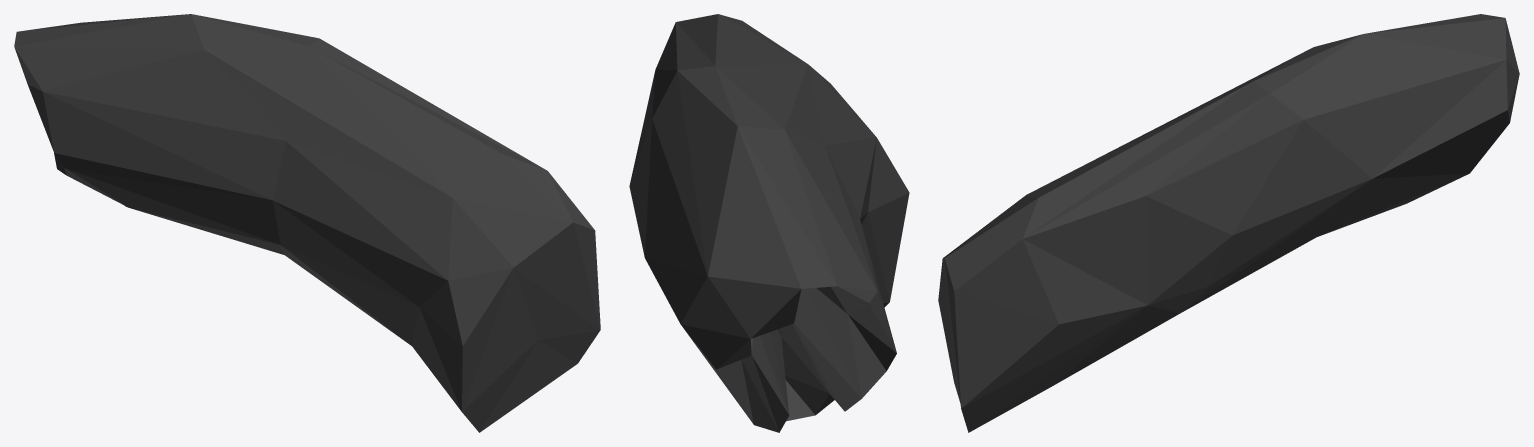
The picture shows the model from 3 angles, left to right: view 1: azimuth 30°, elevation 25°; view 2: azimuth 150°, elevation 25°; view 3: azimuth 270°, elevation 25°; orthographic projection. The views are drawn at different scales.
Parts seen in each view (by area): view 1: world; view 2: world; view 3: world.
Boxes of the visible parts, box(x1,y1,x2,y2) form: world: box(14, 14, 600, 432); world: box(629, 14, 909, 432); world: box(938, 14, 1519, 432).
Bounding box in the file's own units: 0.2965 × 0.251 × 0.3897.
Materials: 1 (1 with a texture image).
